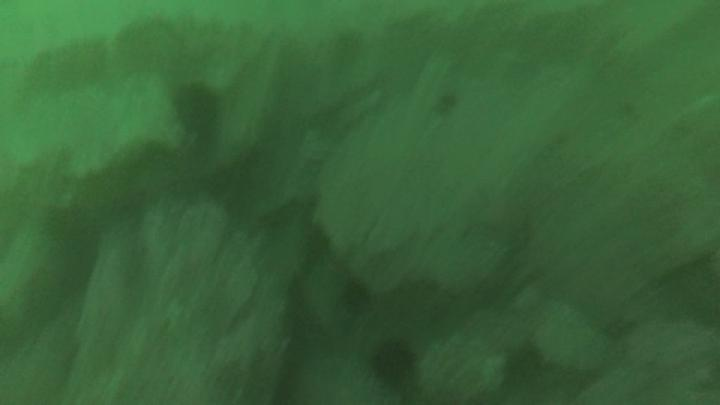echinus: (171, 87, 221, 136), (374, 344, 415, 390), (342, 282, 372, 316)
